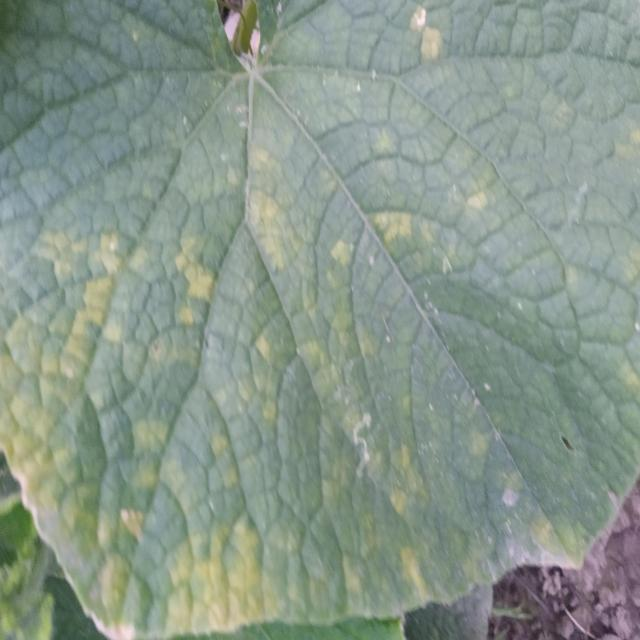cucumber_downy: (3, 14, 629, 625)
